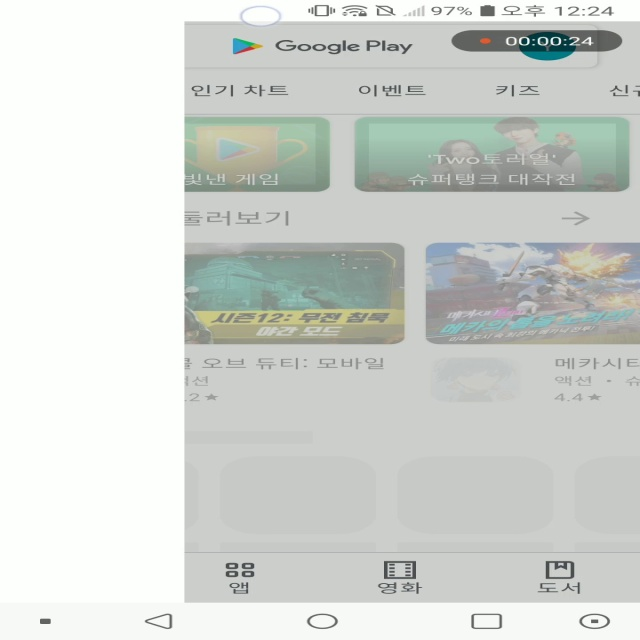Cursor: (240, 4, 284, 27)
